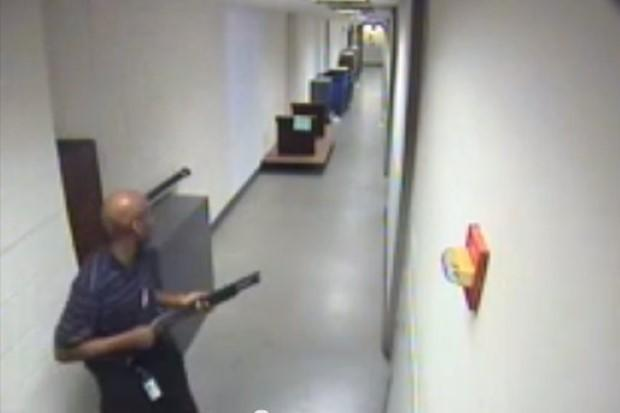criminal: (53, 189, 265, 413)
weapon: (139, 268, 264, 355)
